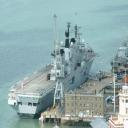Portanaves: (7, 12, 102, 121)
